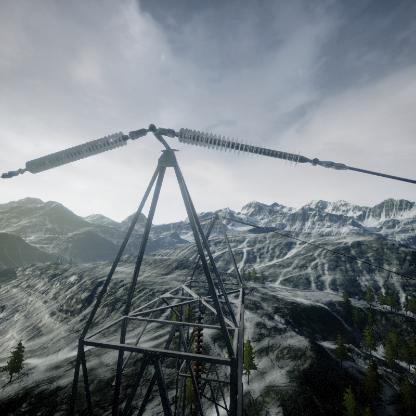insulator: (12, 128, 136, 179), (175, 124, 312, 168), (193, 313, 205, 390)
